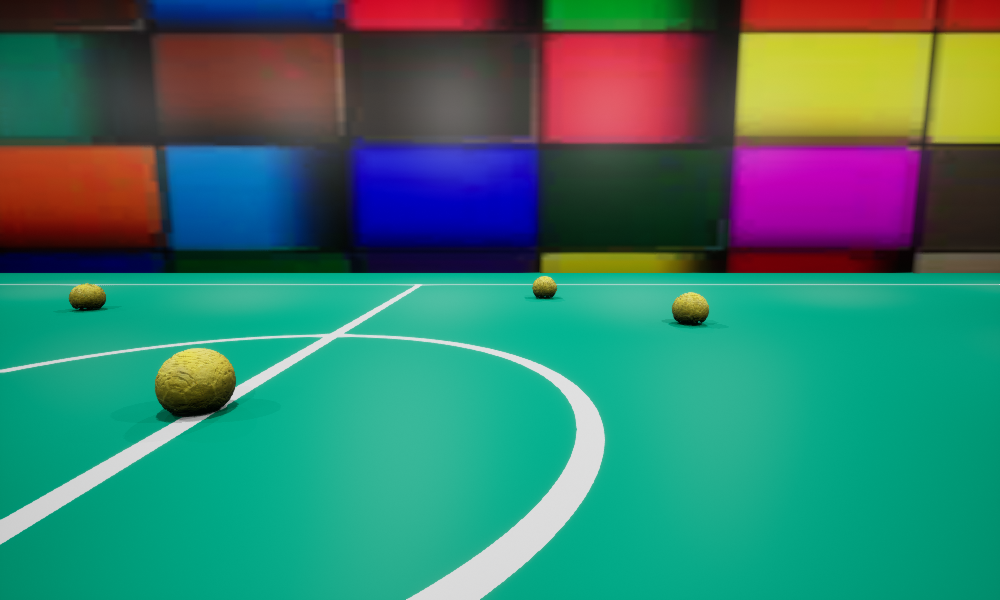b: (155, 348, 235, 416), (672, 292, 708, 324), (69, 283, 105, 310), (532, 276, 556, 298)
